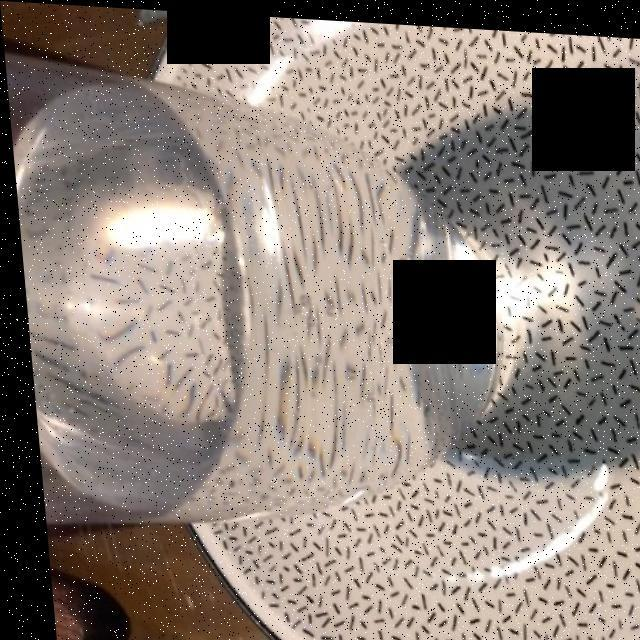water: (23, 94, 499, 518)
